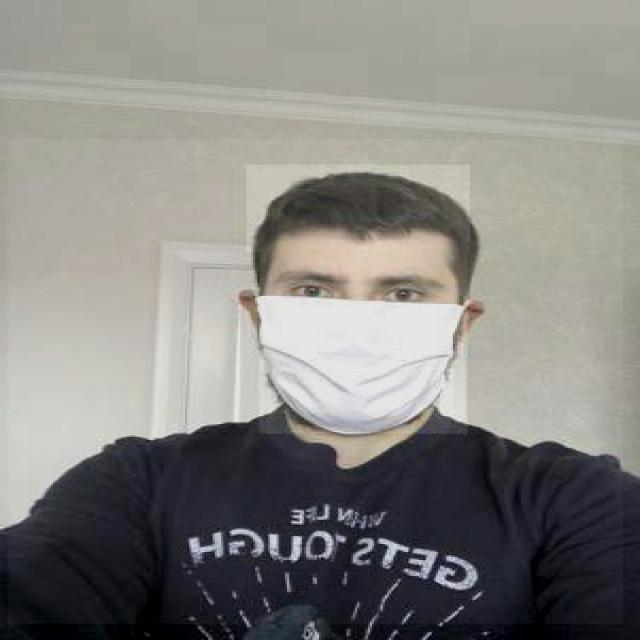face_mask: (259, 252, 468, 433)
head_nohelmet: (247, 165, 470, 253)
person: (6, 139, 623, 626)
